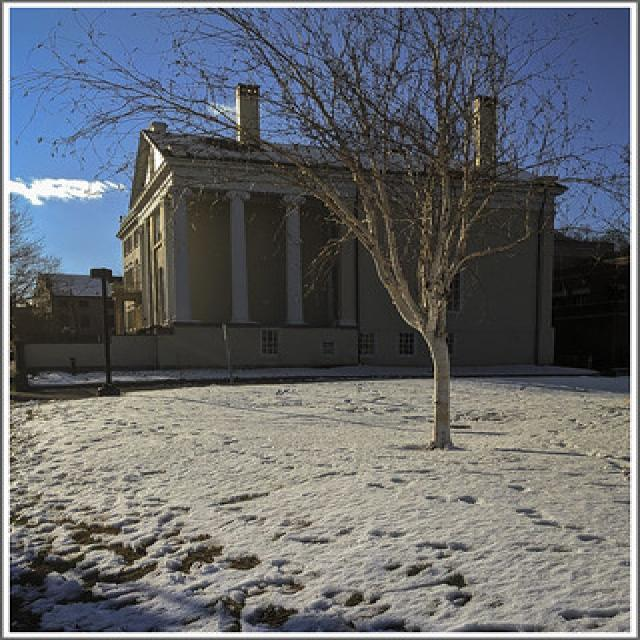Normal_building: (109, 79, 565, 372)
